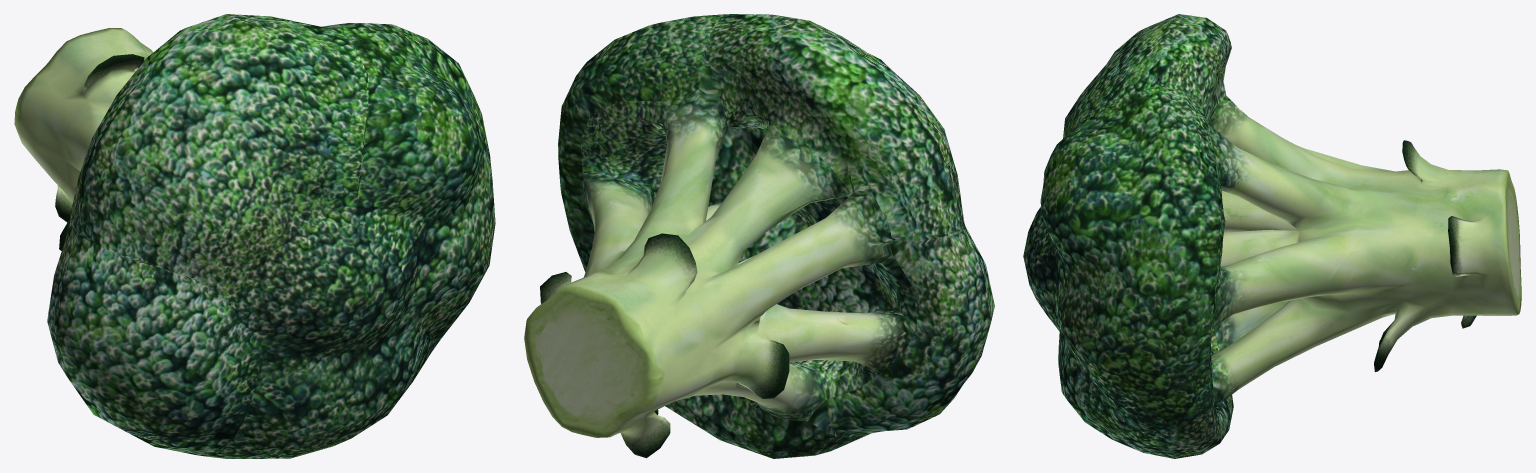
The model's file is Broccoli.obj.
3 renders of one model, left to right at view 1: azimuth 30°, elevation 25°; view 2: azimuth 150°, elevation 25°; view 3: azimuth 270°, elevation 25°, orthographic. The views are drawn at different scales.
Visible parts, largest first — view 1: Broccoli; view 2: Broccoli; view 3: Broccoli.
Part boxes in pixels (x1,y1,x2,y2): Broccoli: (14,14,495,458); Broccoli: (524,14,994,458); Broccoli: (1023,14,1521,458).
Bounding box in the file's own units: 78.73 × 76.49 × 86.65.
